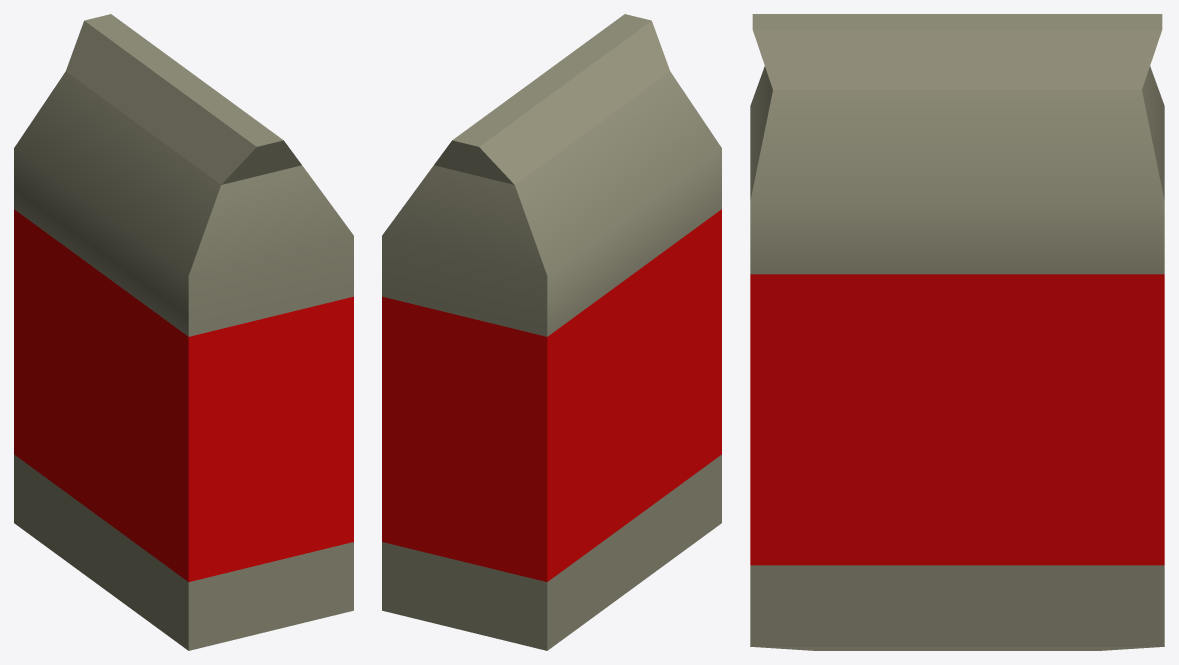
The model's file is sugar_red.fbx.
3 renders of one model, left to right at view 1: azimuth 30°, elevation 25°; view 2: azimuth 150°, elevation 25°; view 3: azimuth 270°, elevation 25°, orthographic. The views are drawn at different scales.
Parts seen in each view (by area): view 1: sugar_red155; view 2: sugar_red155; view 3: sugar_red155.
Part boxes in pixels (x1,y1,x2,y2): sugar_red155: [14, 14, 353, 650]; sugar_red155: [382, 14, 721, 650]; sugar_red155: [750, 14, 1164, 650].
Size of the model in its own units: 0.0514 by 0.1515 by 0.094.
